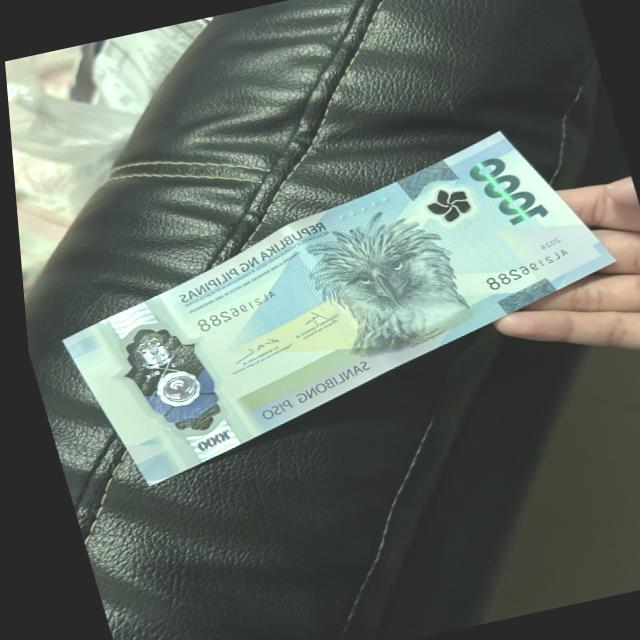clear_window: (101, 312, 217, 444)
eagle: (306, 197, 470, 359)
sampaguita: (419, 179, 474, 224)
